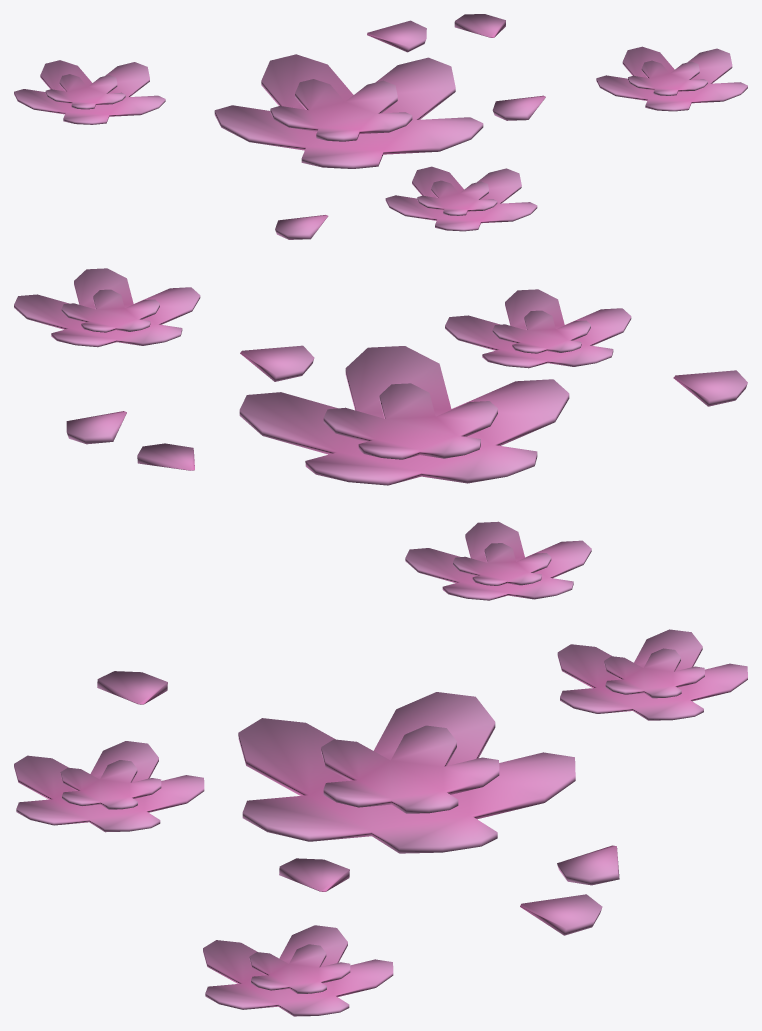
File: cutepack2023cherrypetals02 1.fbx
3 views of the same model, one above another, from view 1: azimuth 30°, elevation 25°; view 2: azimuth 150°, elevation 25°; view 3: azimuth 270°, elevation 25° (orthographic). The views are drawn at different scales.
Visible parts, largest first — view 1: Sphere.059; view 2: Sphere.059; view 3: Sphere.059.
Boxes of the visible parts, x1,y1,x2,y2 form: Sphere.059: (14, 14, 747, 239); Sphere.059: (14, 268, 747, 600); Sphere.059: (14, 629, 747, 1016).
Size of the model in its own units: 117 by 4.88 by 94.95.
